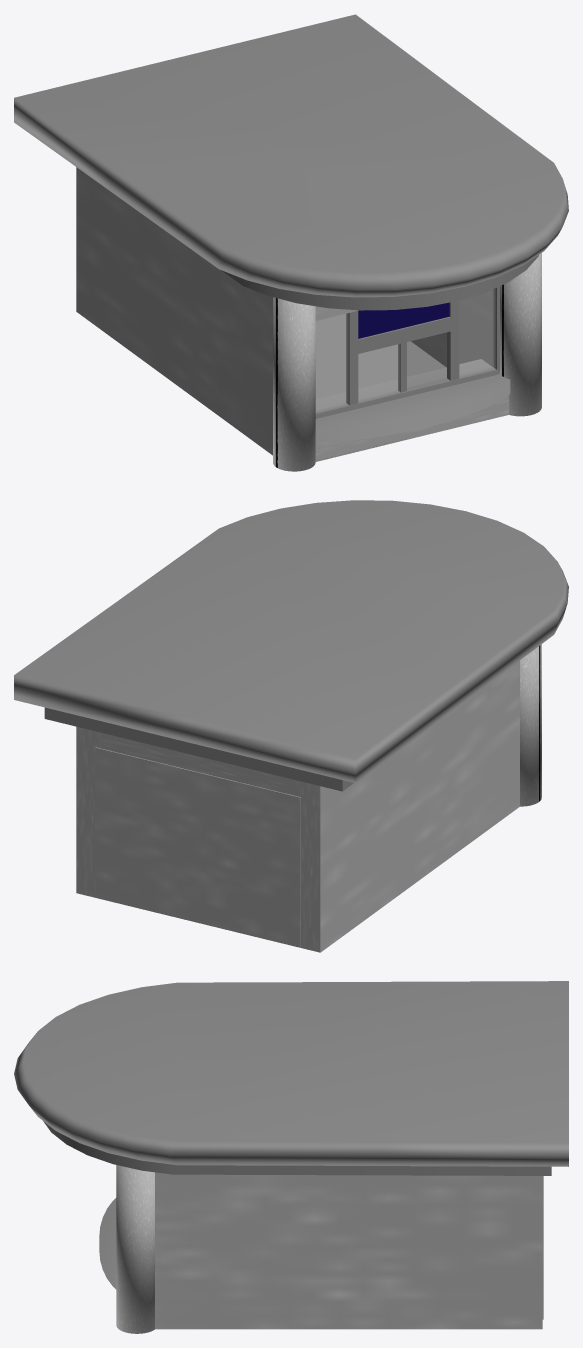
Rendered from Syueizyo.fbx.
The picture shows the model from 3 angles, top to bottom: view 1: azimuth 30°, elevation 25°; view 2: azimuth 150°, elevation 25°; view 3: azimuth 270°, elevation 25°; orthographic projection. The views are drawn at different scales.
Parts seen in each view (by area): view 1: 円柱.004, 立方体.012, 円柱.002, 円柱.001, 円柱, 立方体.013, 円柱.003, 立方体.011, 立方体.007, 立方体.008, 立方体.002, 立方体 (+5 smaller); view 2: 円柱.004, 立方体.012, 立方体.014, 円柱.003, 立方体.011, 円柱.001, 立方体.001; view 3: 円柱.004, 立方体.011, 円柱, 円柱.003, 円柱.002.
Part boxes in pixels (box(x1,y1,x2,y2)): 円柱.004: box(14, 14, 568, 297); 立方体.012: box(76, 167, 272, 455); 円柱.002: box(315, 359, 510, 441); 円柱.001: box(273, 297, 315, 471); 円柱: box(500, 253, 541, 416); 立方体.013: box(315, 314, 445, 461); 円柱.003: box(221, 255, 538, 310); 立方体.011: box(411, 290, 492, 367); 立方体.007: box(316, 314, 347, 411); 立方体.008: box(459, 289, 494, 376); 立方体.002: box(315, 286, 499, 418); 立方体: box(315, 395, 508, 461); 円柱.004: box(14, 500, 568, 783); 立方体.012: box(295, 660, 519, 952); 立方体.014: box(95, 747, 300, 947); 円柱.003: box(44, 707, 353, 791); 立方体.011: box(76, 726, 101, 899); 円柱.001: box(520, 644, 541, 806); 立方体.001: box(101, 733, 298, 795); 円柱.004: box(14, 981, 568, 1166); 立方体.011: box(155, 1172, 542, 1329); 円柱: box(116, 1165, 154, 1333); 円柱.003: box(43, 1121, 551, 1175); 円柱.002: box(99, 1198, 116, 1289).
Size of the model in its own units: 20.29 by 12.26 by 29.42.
Materials: 6 (2 with a texture image).
